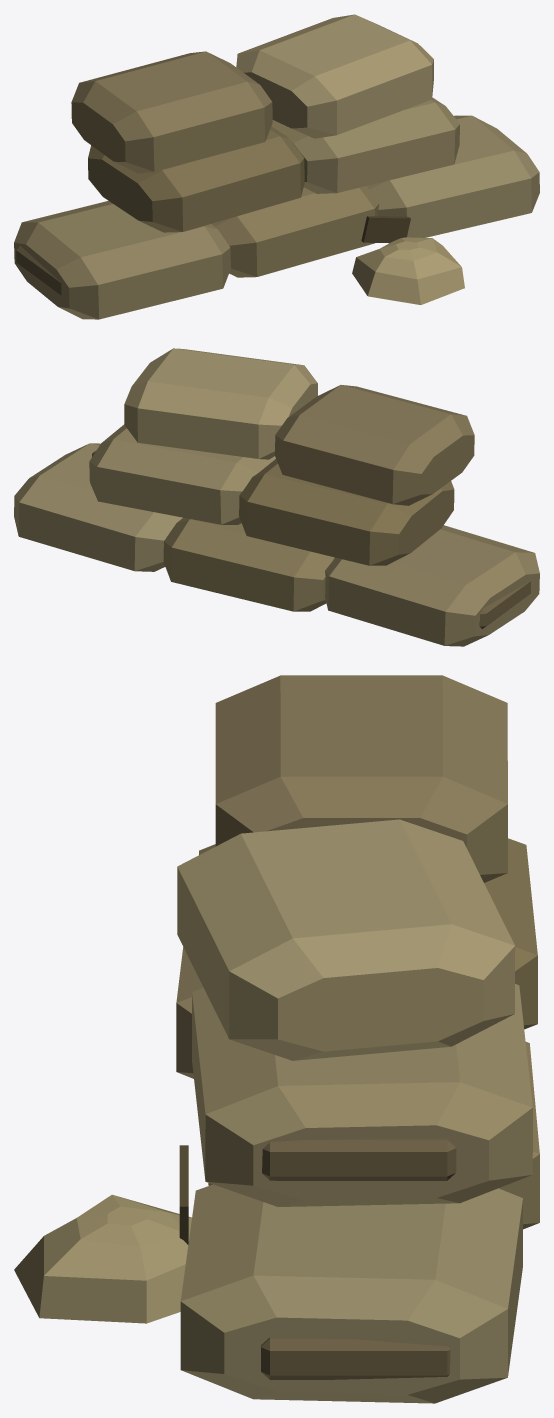
File: sacos_areia.glb
3 renders of one model, top to bottom at view 1: azimuth 30°, elevation 25°; view 2: azimuth 150°, elevation 25°; view 3: azimuth 270°, elevation 25°, orthographic. The views are drawn at different scales.
Visible parts, largest first — view 1: sacos_areia.001; view 2: sacos_areia.001; view 3: sacos_areia.001.
Part boxes in pixels (x1,y1,x2,y2): sacos_areia.001: (14, 14, 539, 319); sacos_areia.001: (14, 348, 539, 646); sacos_areia.001: (14, 675, 539, 1403).
Bounding box in the file's own units: 1.43 × 0.5759 × 0.7002.
